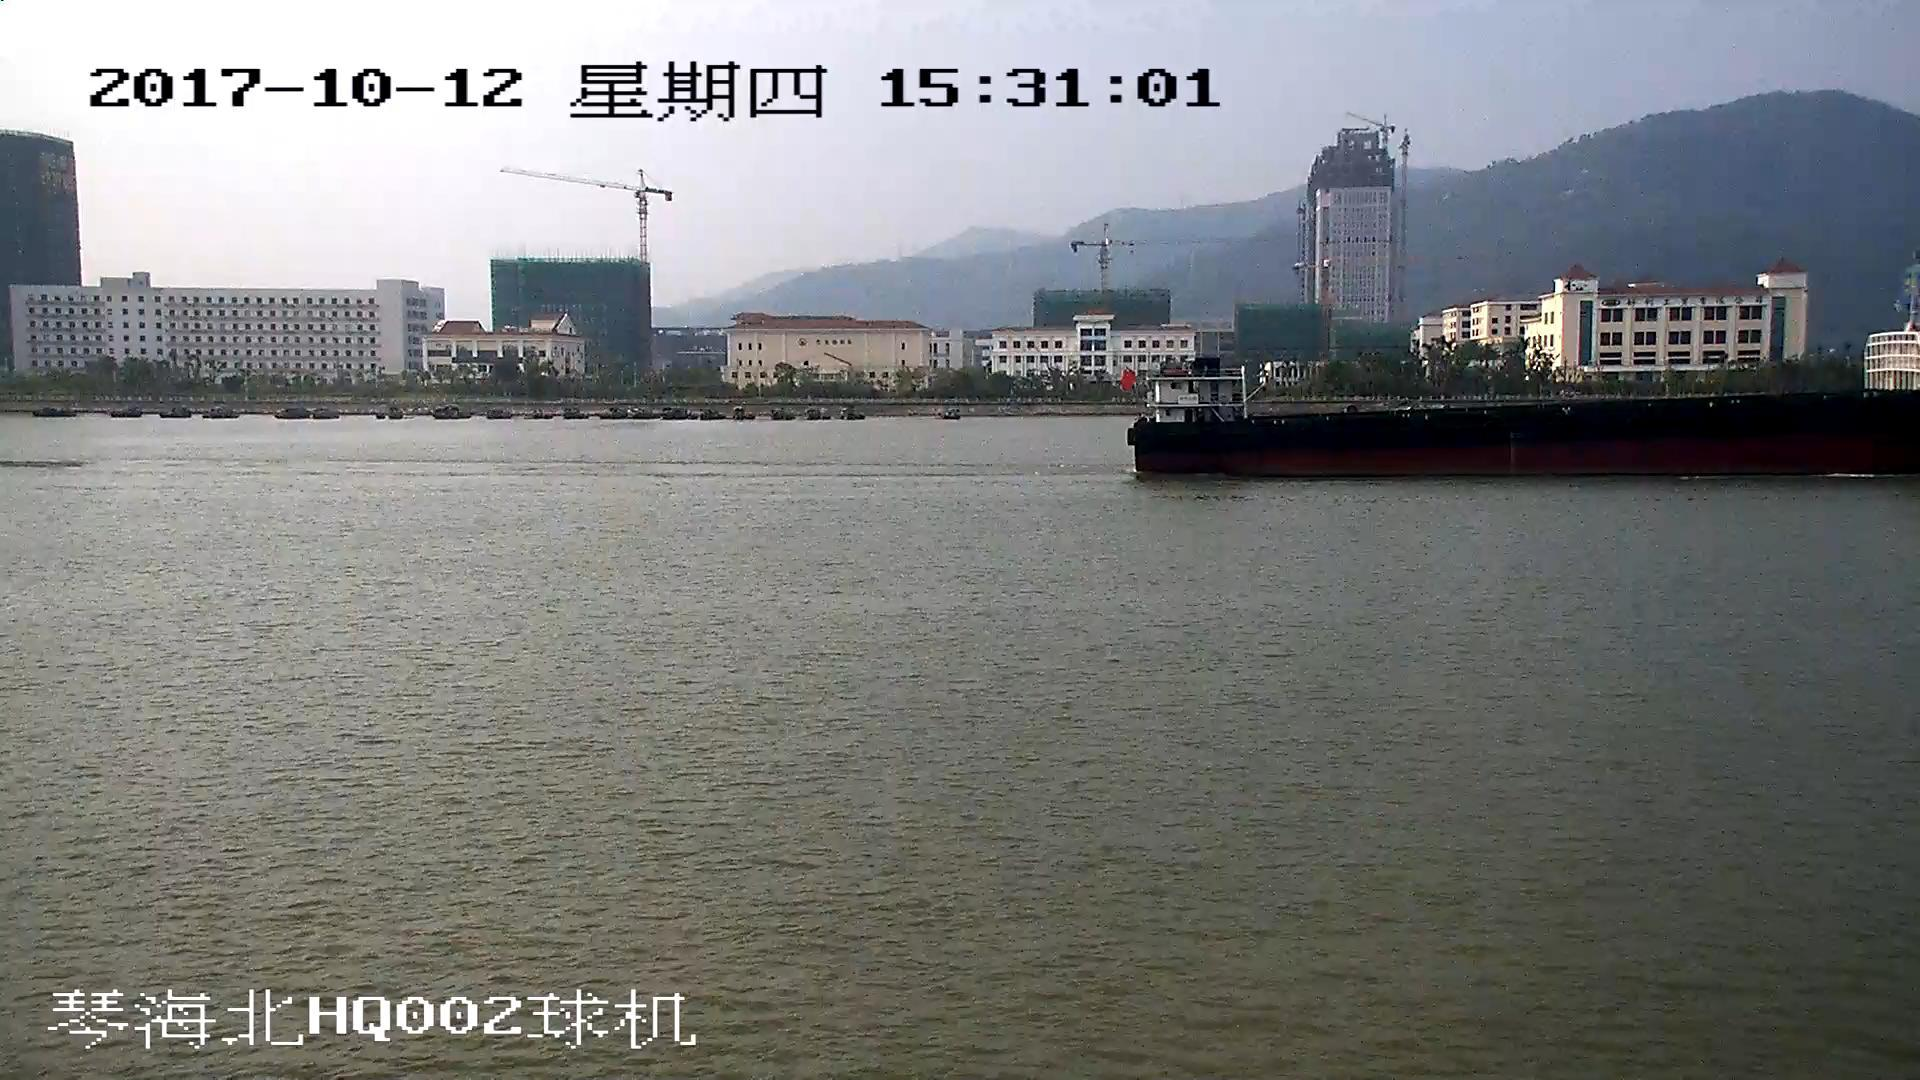Ship: (1127, 338, 1920, 477)
